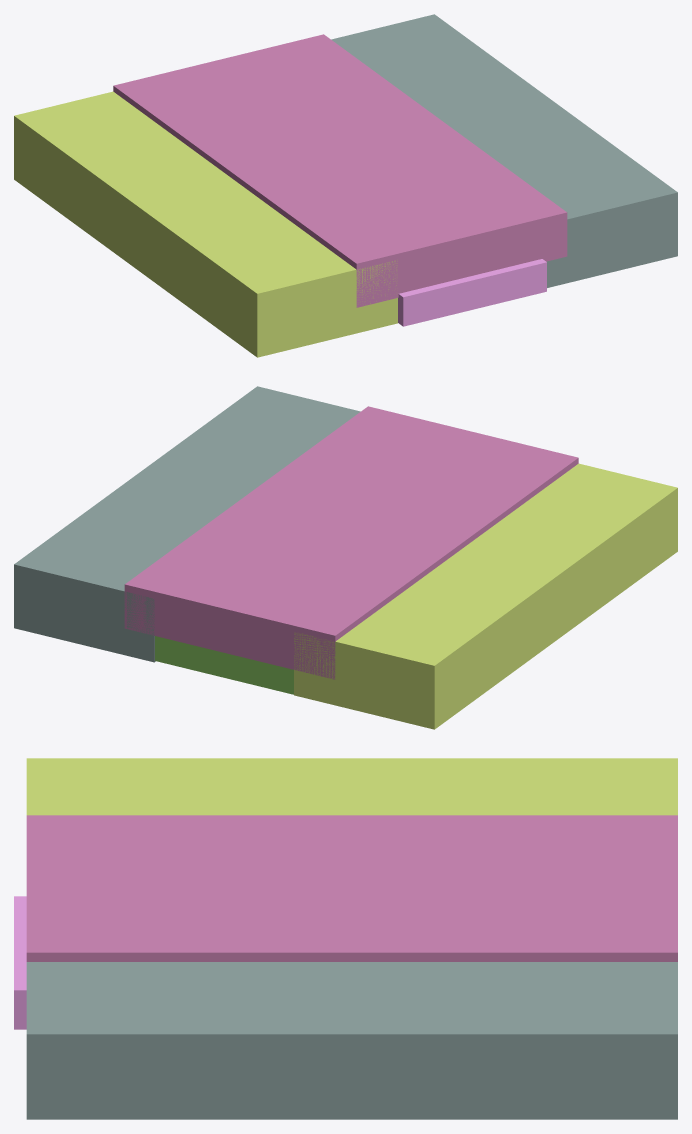
The model's file is nav_mesh_create03.glb.
3 views of the same model, one above another, from view 1: azimuth 30°, elevation 25°; view 2: azimuth 150°, elevation 25°; view 3: azimuth 270°, elevation 25° (orthographic). The views are drawn at different scales.
Parts seen in each view (by area): view 1: Mesh_0; view 2: Mesh_0; view 3: Mesh_0.
Boxes of the visible parts, x1=… form: Mesh_0: x1=14, y1=14, x2=677, y2=357; Mesh_0: x1=14, y1=386, x2=677, y2=729; Mesh_0: x1=14, y1=758, x2=677, y2=1119.
Bounding box in the file's own units: 150 × 24.08 × 153.
